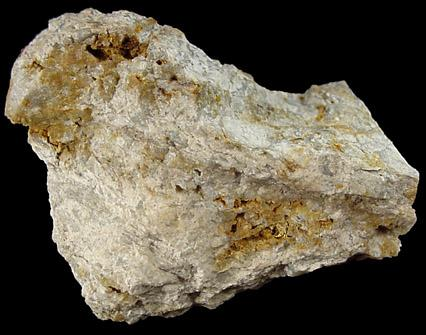gold: (14, 34, 148, 142), (222, 200, 334, 254)
